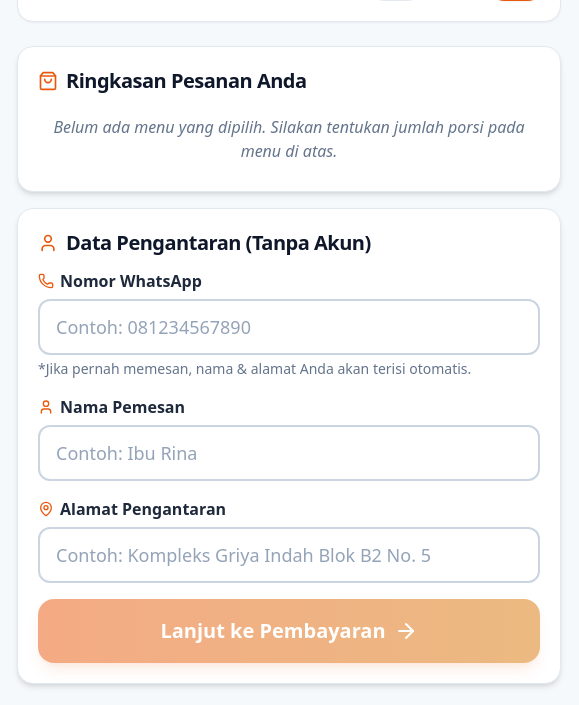
Test: Customer Portal Order Flow (End-to-End Integration) › should auto-fill name and address when returning customer types WhatsApp number
(page scrolled)
Type "0812-3456-7890" into the field labelled "Nomor WhatsApp".
click(289, 327); type("0812-3456-7890")  # box [38,299,540,355]
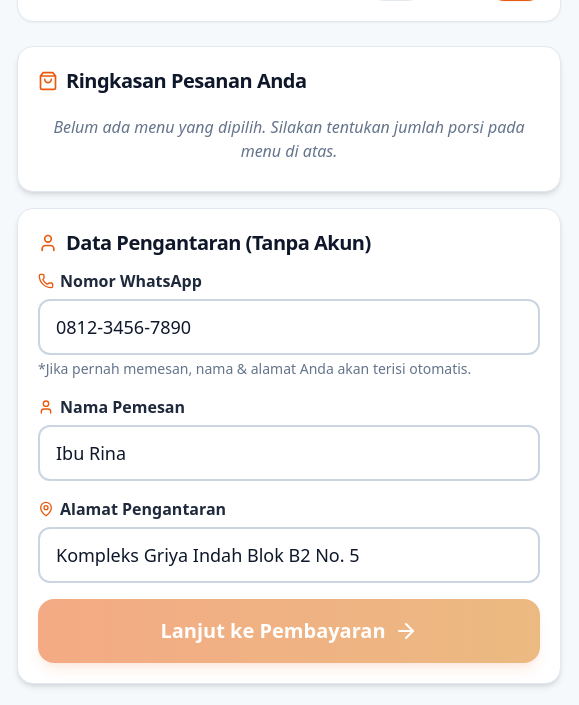
Expected: the field labelled "Nama Pemesan" holds "Ibu Rina", [38,425,540,481]
Expected: the field labelled "Alamat Pengantaran" holds "Kompleks Griya Indah Blok B2 No. 5", [38,527,540,583]
